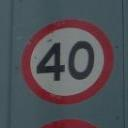speed_limit_40: (22, 20, 114, 105)
